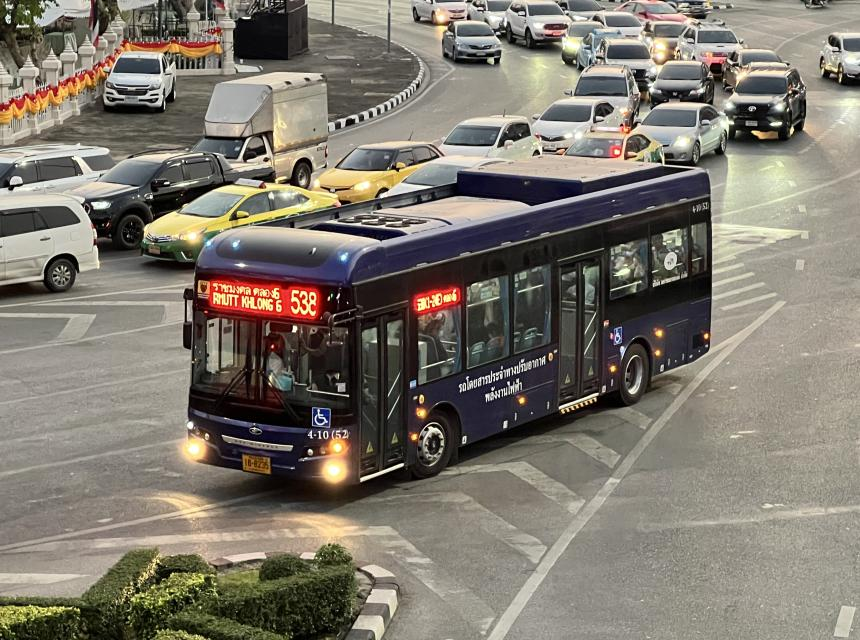Bus Line Number: (286, 284, 320, 323)
Bus Side Number: (305, 427, 351, 441)
Destination Sign: (209, 280, 285, 316)
TSB-Bus: (183, 154, 715, 491)
